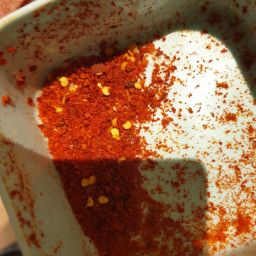Red pepper flakes: (31, 47, 147, 212), (164, 71, 256, 249), (73, 128, 160, 256), (65, 30, 179, 111)
